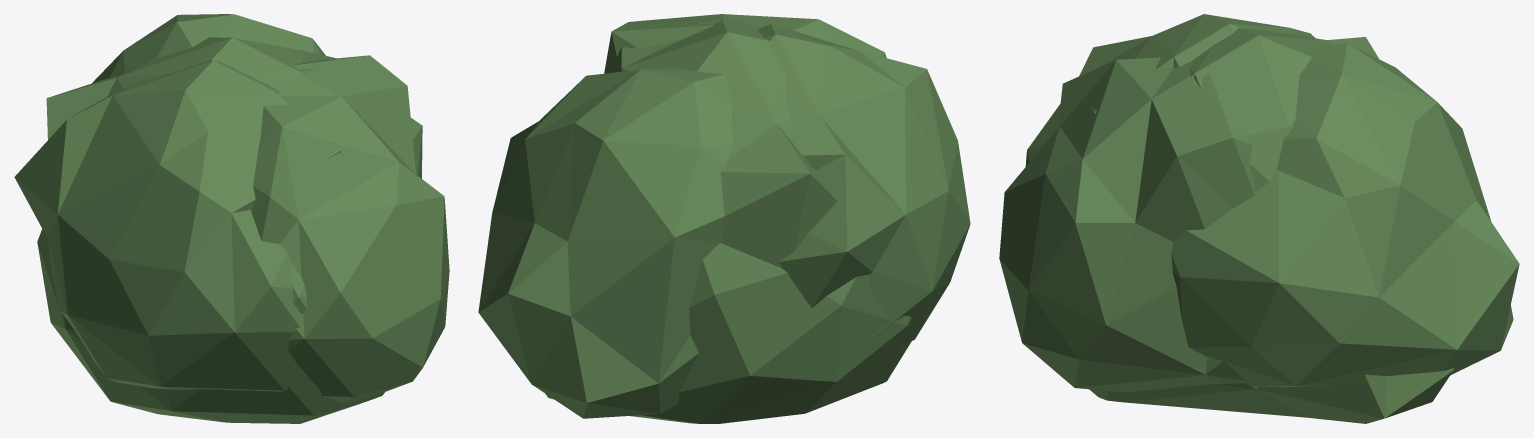
Rendered from Bush.fbx.
3 views of the same model, side by side, from view 1: azimuth 30°, elevation 25°; view 2: azimuth 150°, elevation 25°; view 3: azimuth 270°, elevation 25° (orthographic). The views are drawn at different scales.
Parts seen in each view (by area): view 1: Bush_LOD_0; view 2: Bush_LOD_0; view 3: Bush_LOD_0.
Part boxes in pixels (box(x1,y1,x2,y2)): Bush_LOD_0: box(14, 14, 449, 423); Bush_LOD_0: box(478, 14, 970, 423); Bush_LOD_0: box(999, 14, 1519, 423).
Size of what is drawn, in the model's own units: 105 by 83.61 by 121.
